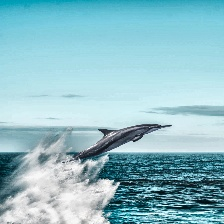dolphin: (73, 124, 172, 164)
